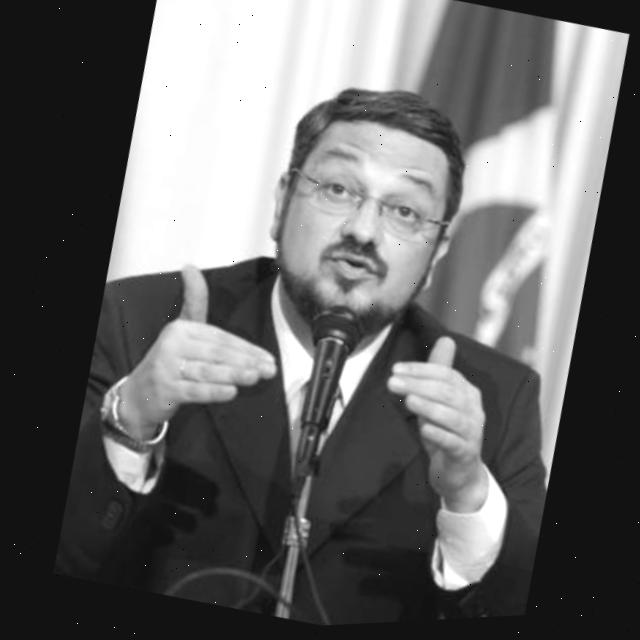face: (236, 95, 458, 366)
